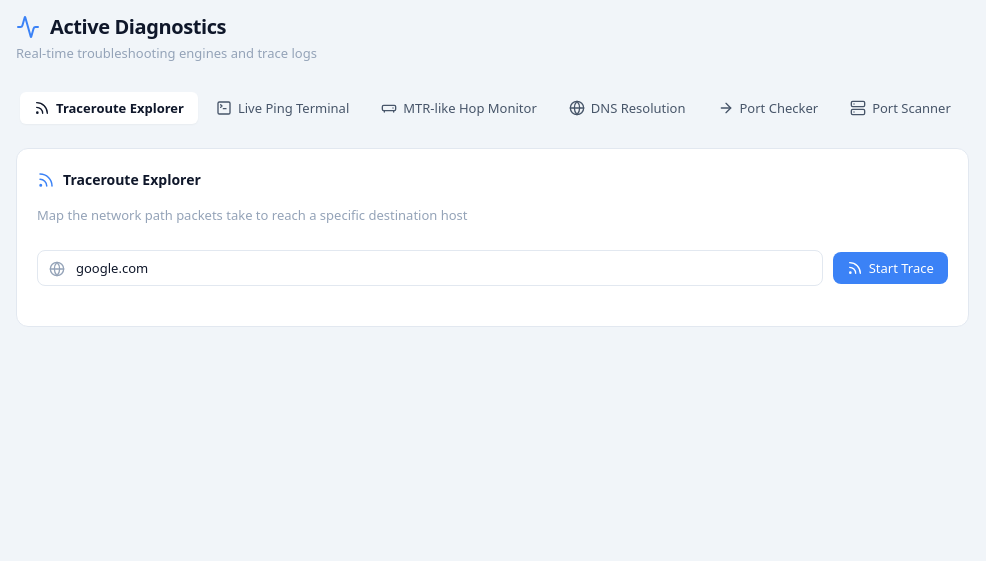
Diagnostics run ownership › does not mix DNS records from an older lookup into a newer domain
Click the button "DNS Resolution" at x=627, y=108, box [555,92,700,124]
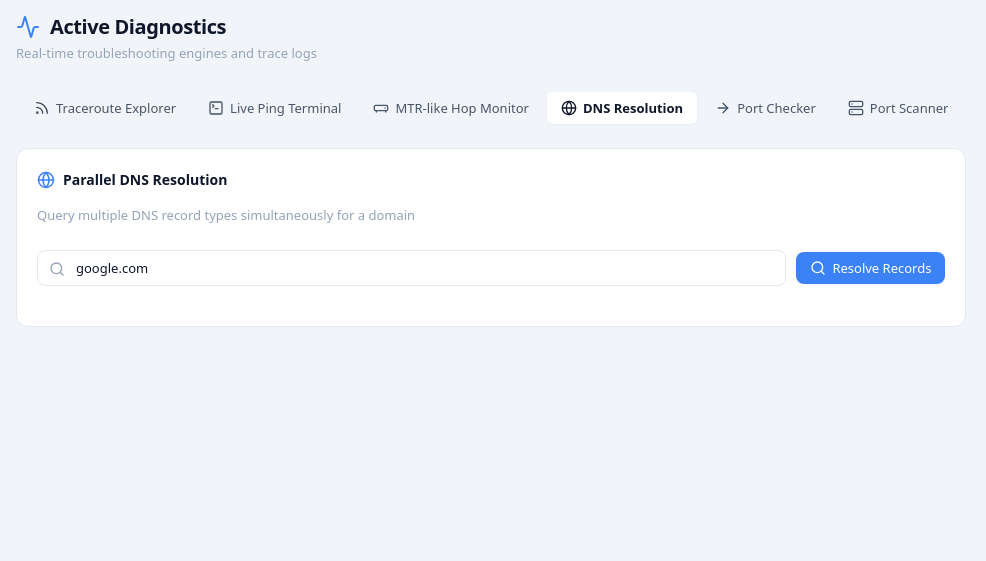
Replace the text in the field with placeholder "Domain name (e.g. example.com)" with "old.example" at x=412, y=267, box [37,249,786,285]
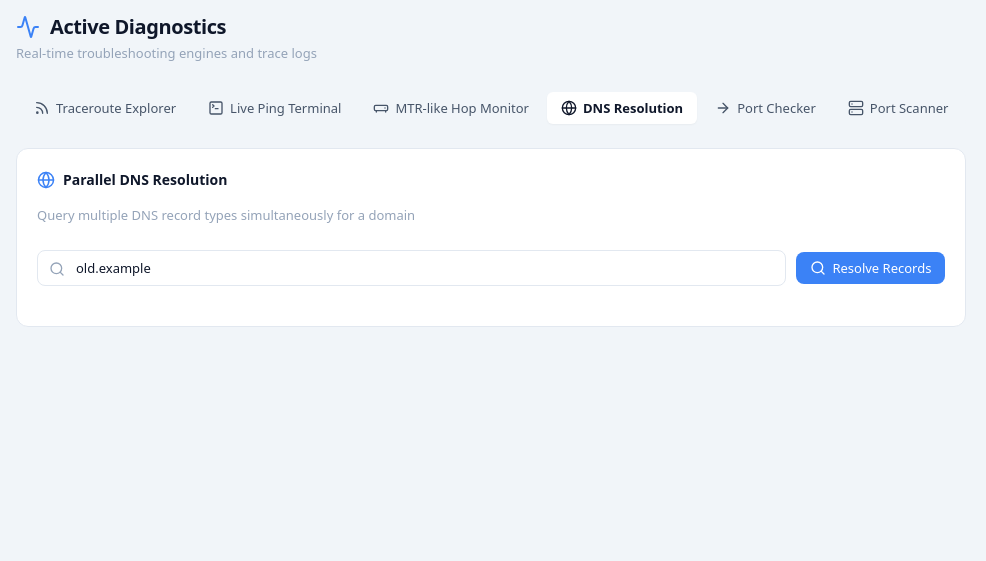
Click the button "Resolve Records" at x=871, y=267, box [796,251,945,283]
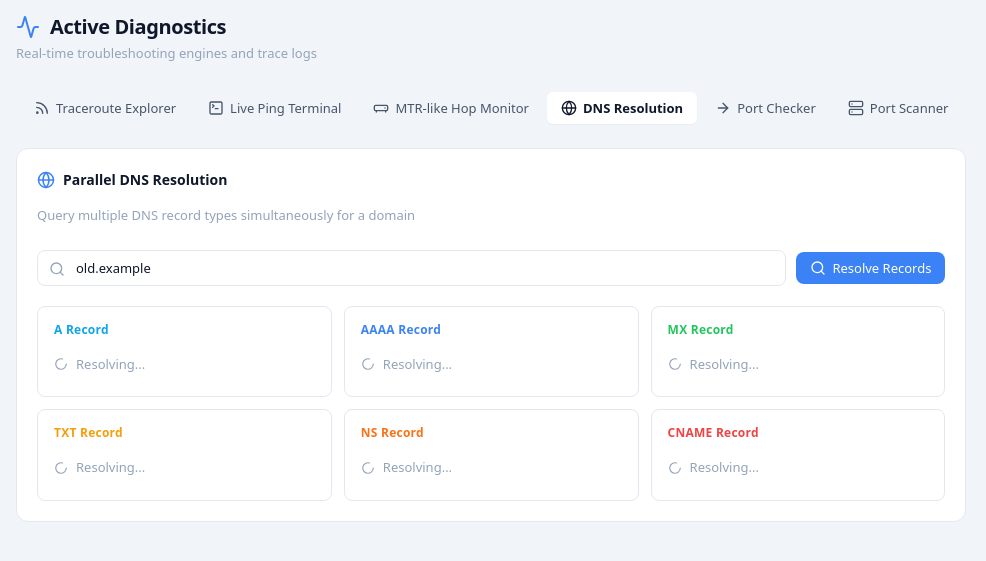
Replace the text in the field with placeholder "Domain name (e.g. example.com)" with "new.example" at x=412, y=267, box [37,249,786,285]
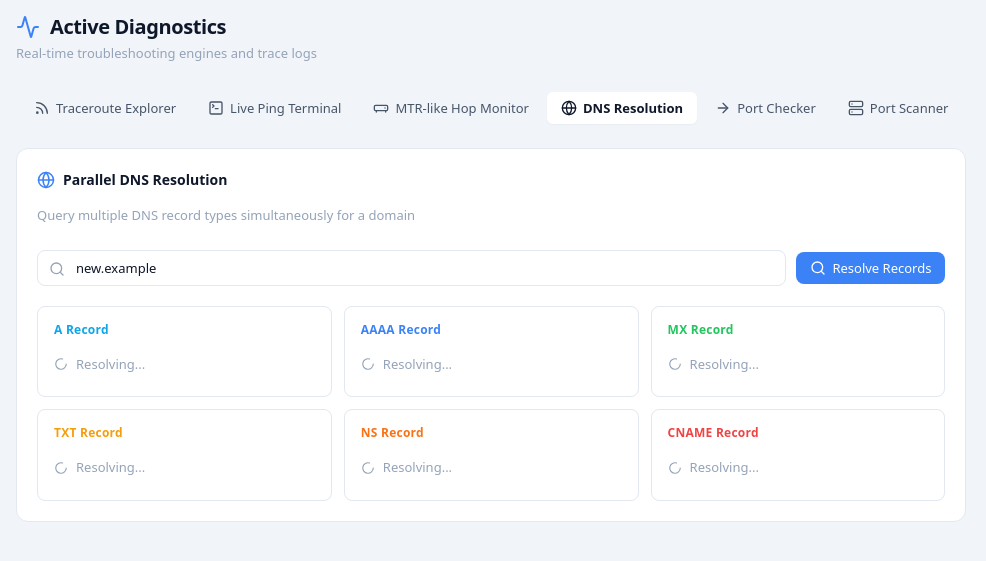
Click the button "Resolve Records" at x=871, y=267, box [796,251,945,283]
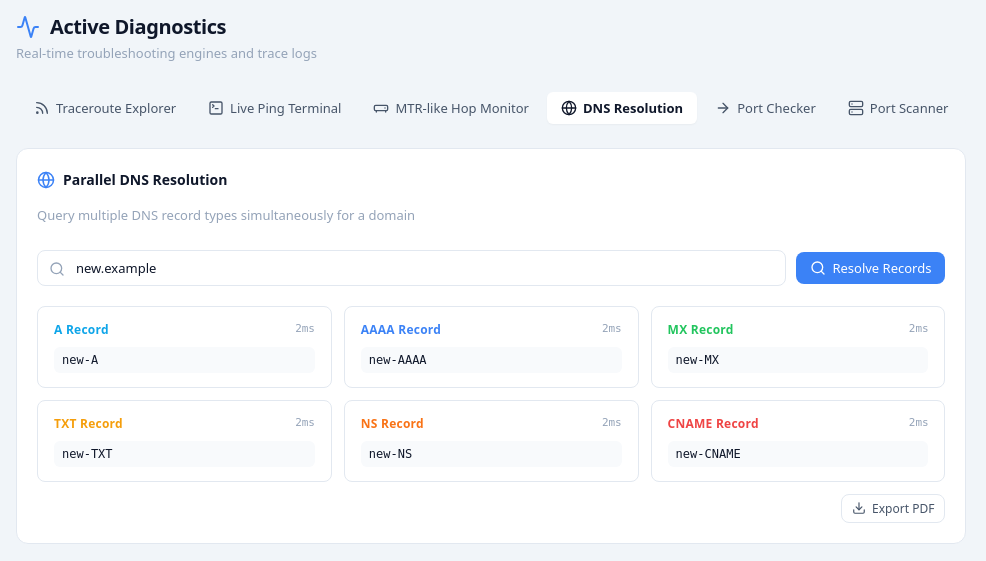
Check: the text "new-A" is shown, box [54,346,315,372]
